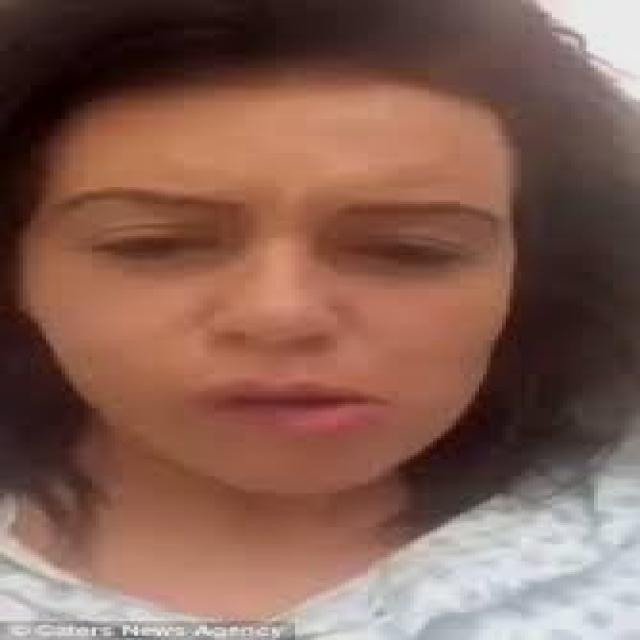stroke_face: (10, 84, 536, 490)
